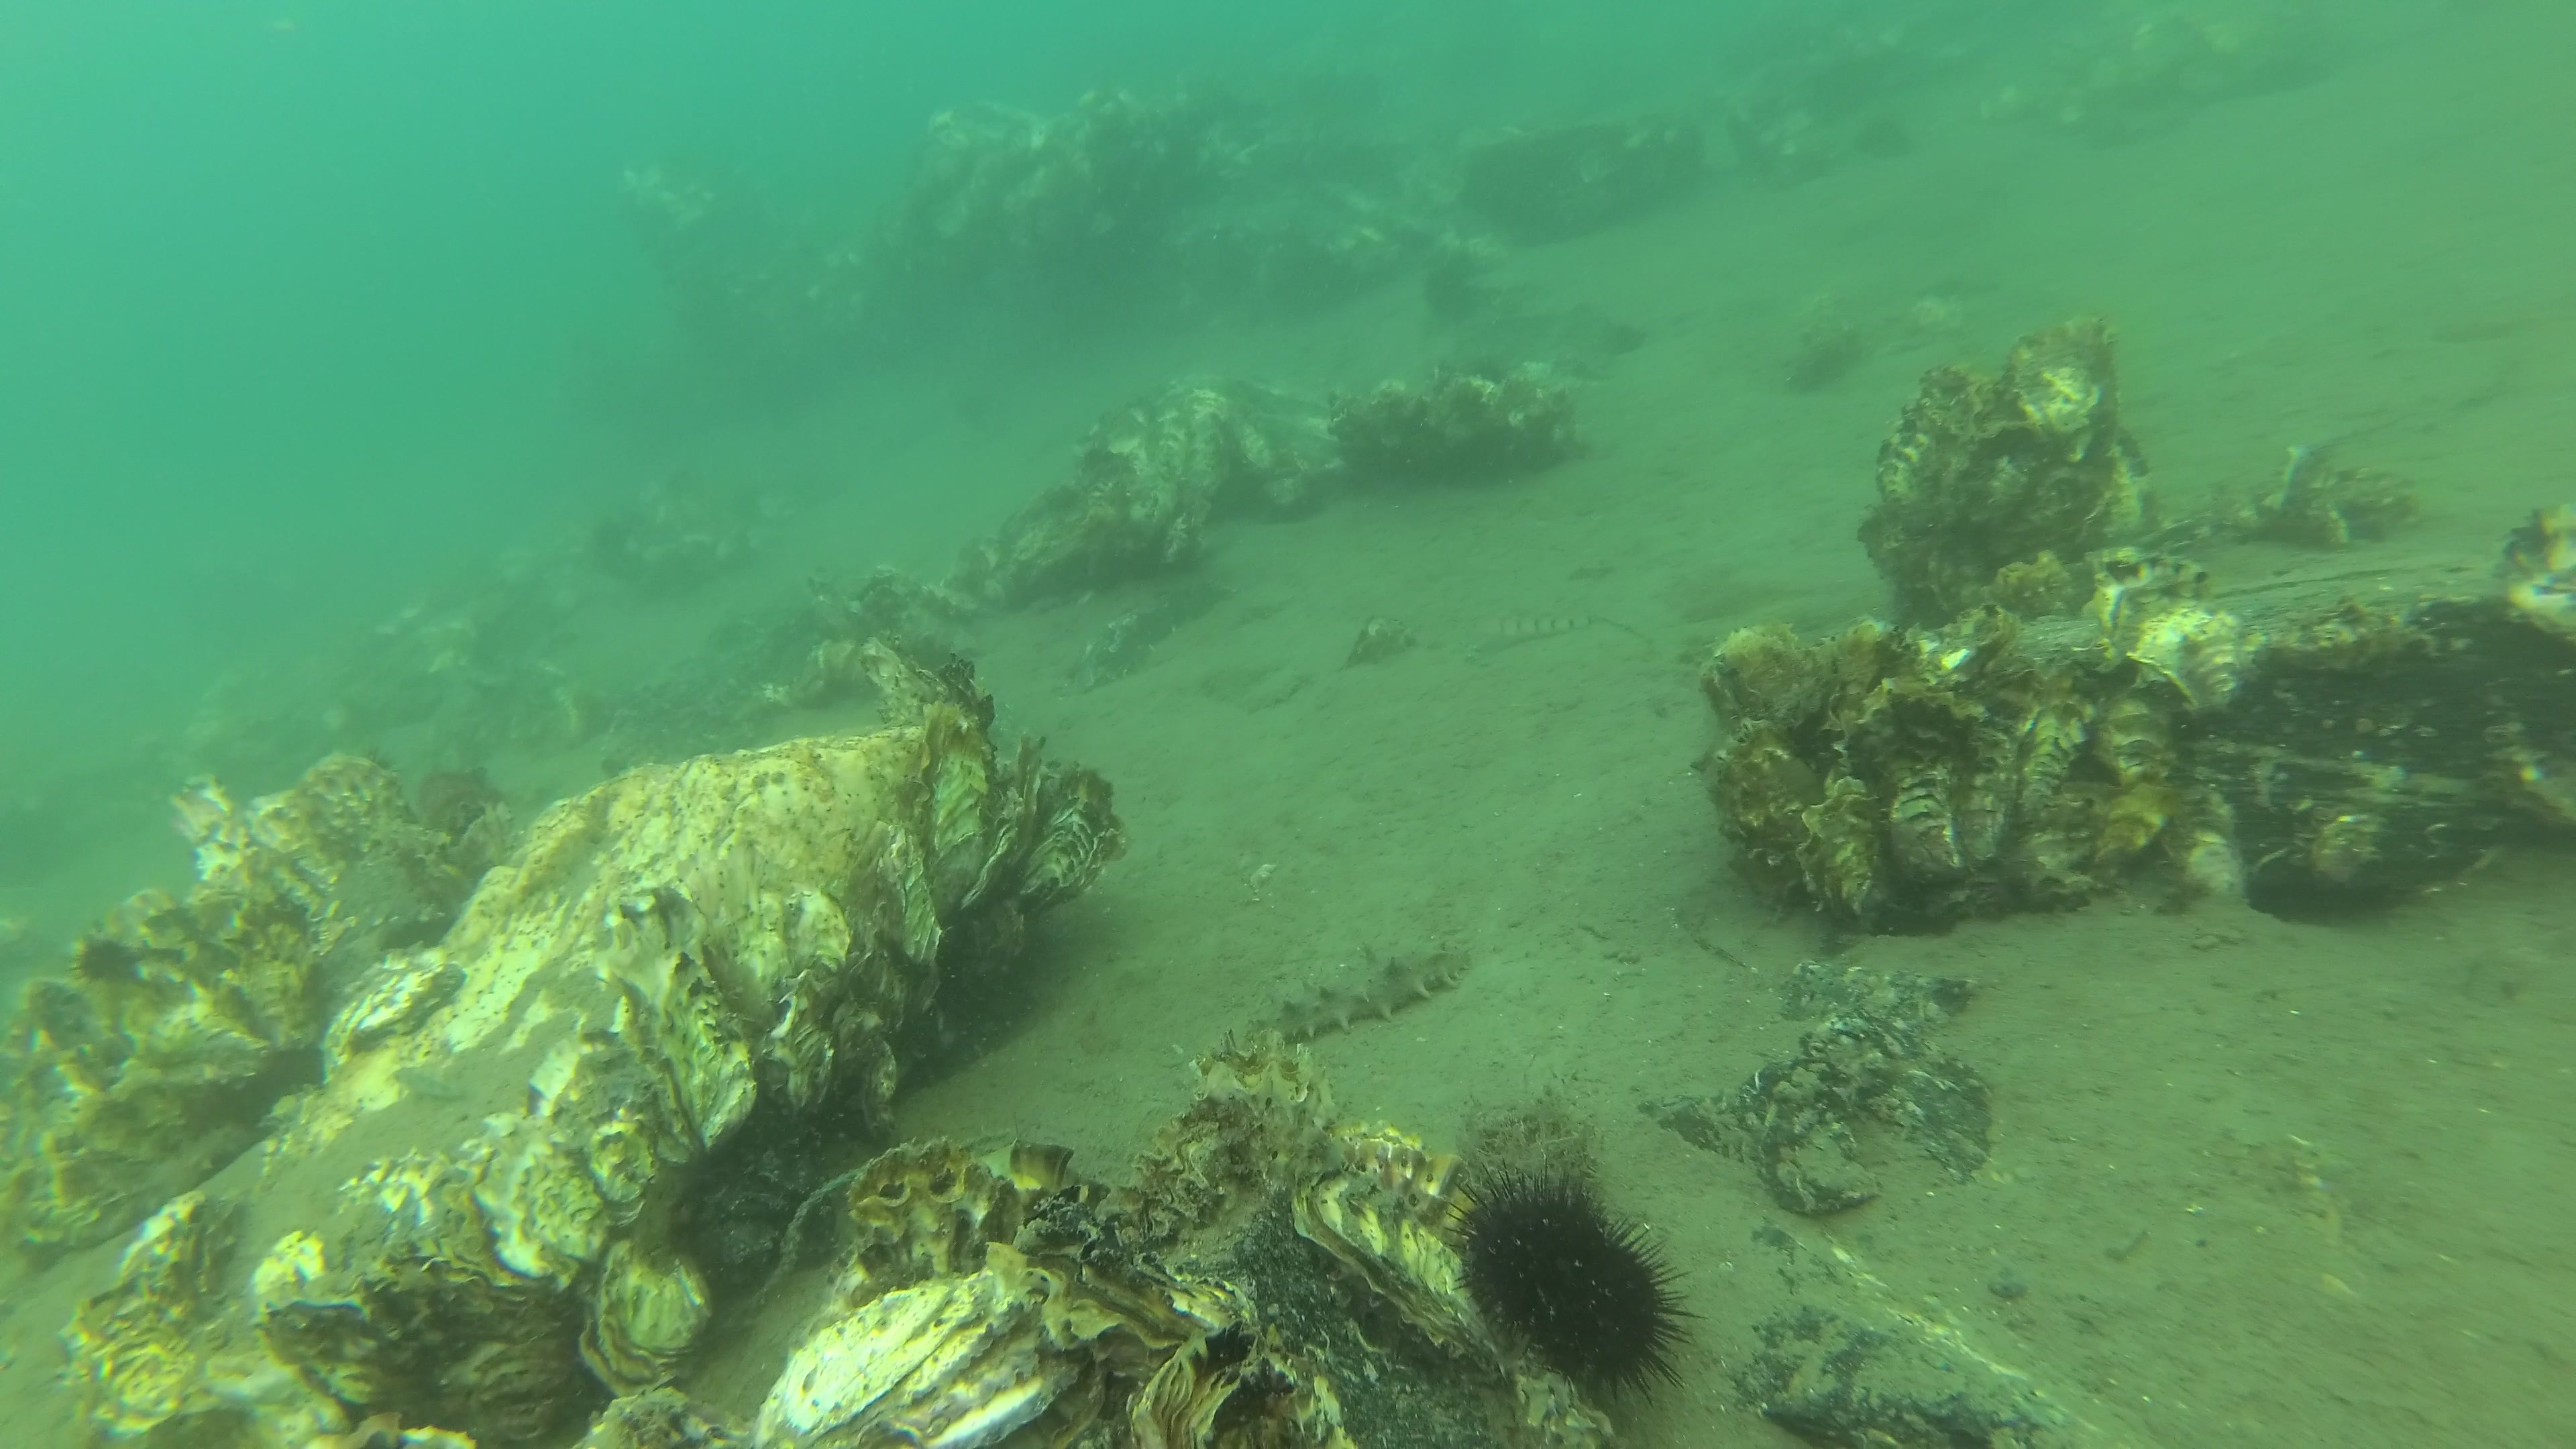echinus: (1440, 1154, 1714, 1410), (1419, 253, 1504, 318), (62, 936, 145, 984), (1854, 119, 1913, 161)
holothurian: (1244, 938, 1476, 1044)
